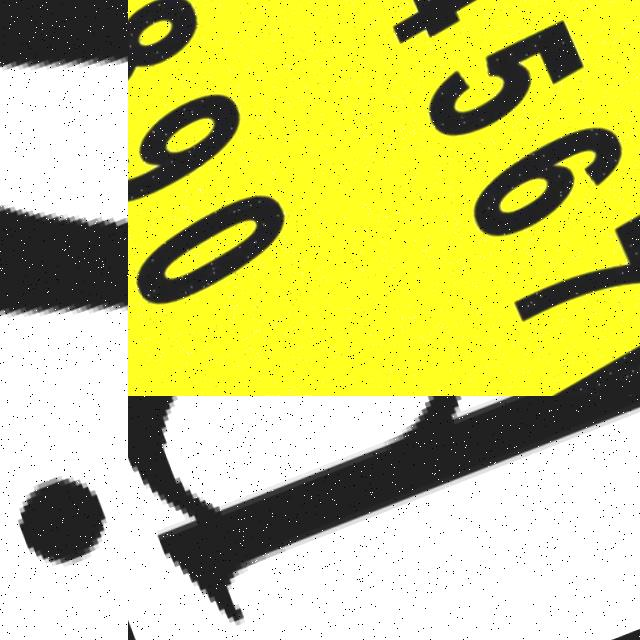0: (128, 158, 338, 339)
4: (337, 0, 579, 77)
5: (375, 0, 632, 182)
6: (418, 88, 640, 280)
7: (459, 195, 640, 379)
8: (128, 0, 243, 137)
9: (128, 60, 289, 235)
D: (128, 396, 640, 640)
J: (0, 396, 128, 640)
U: (0, 0, 128, 396)
